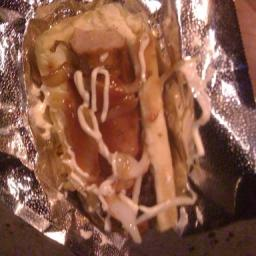hotdog: (66, 26, 146, 174)
